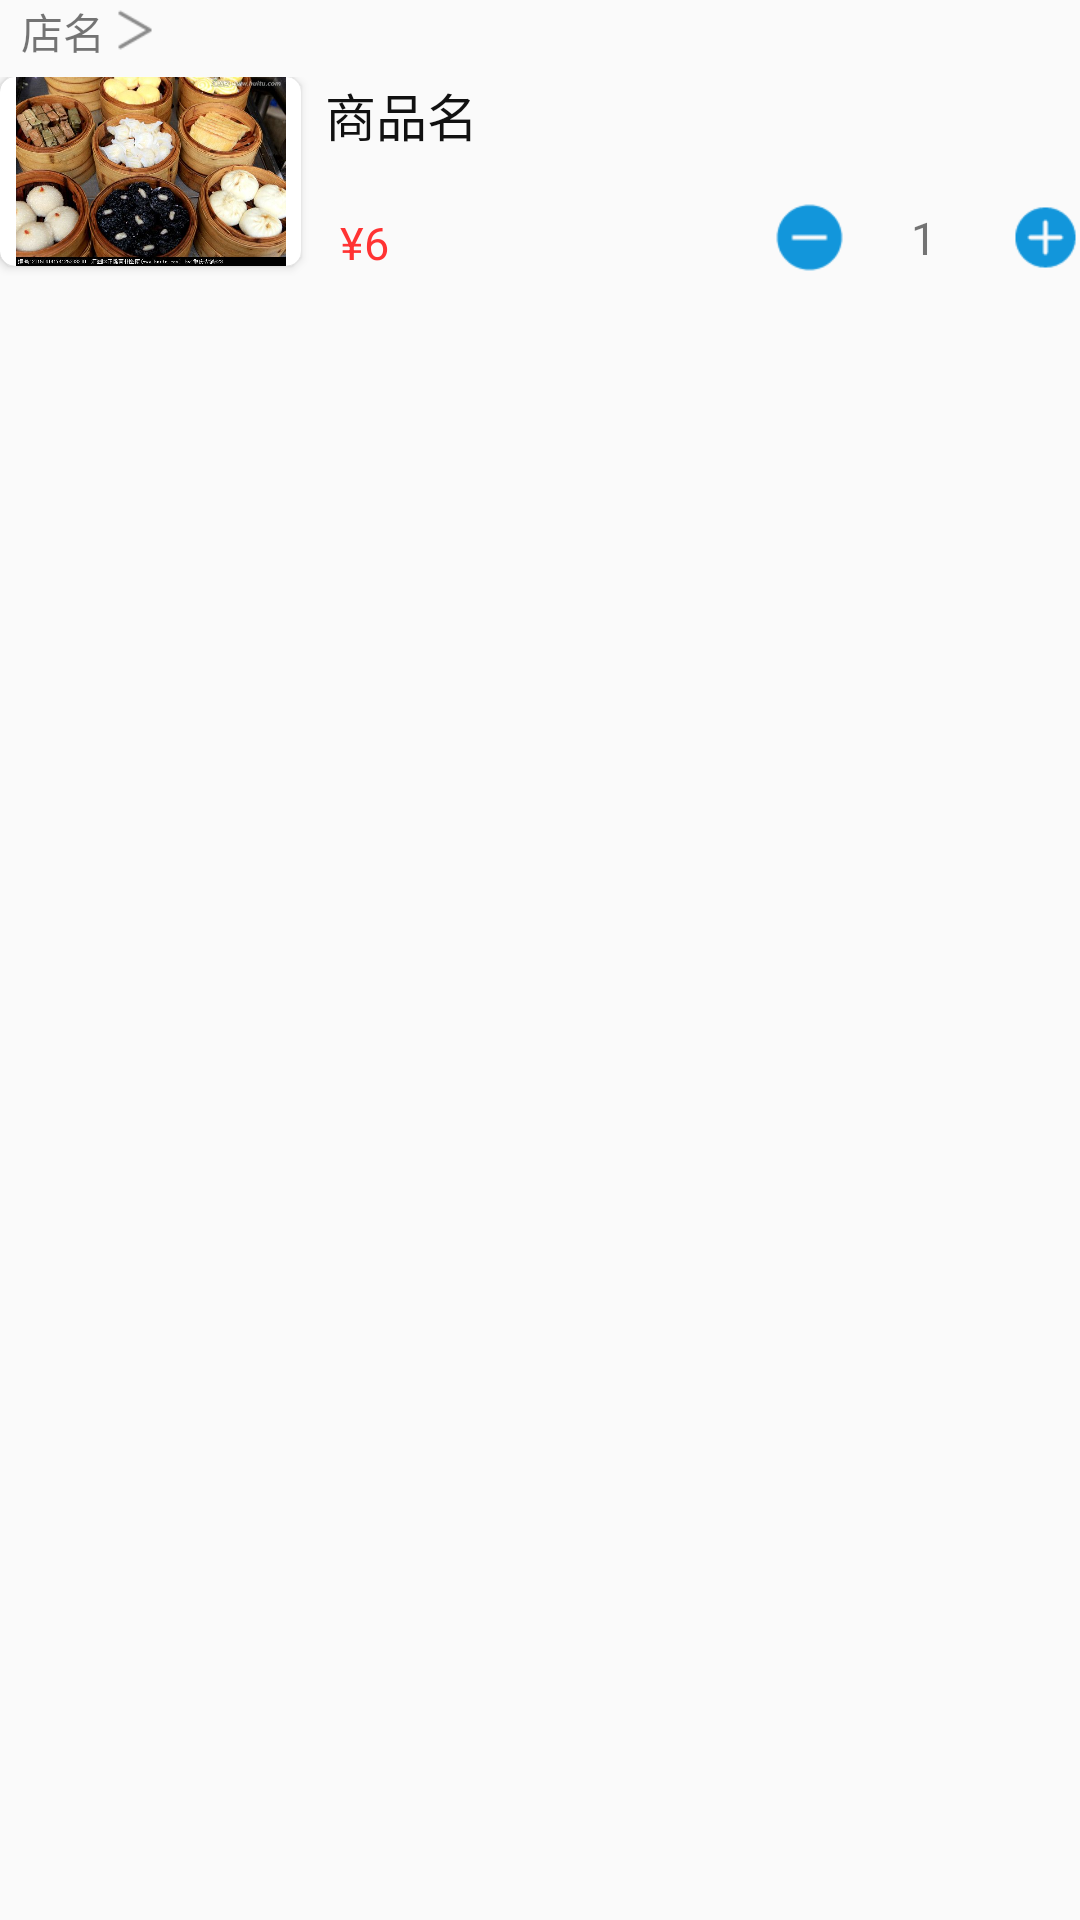

Screen size 1080 x 1920. Icon name, then its center in pixels as point (x, y):
add: point (1045, 237)
store name go: point (135, 30)
subtract: point (809, 237)
